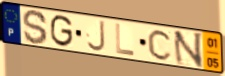C: (147, 28, 174, 62)
G: (49, 13, 74, 48)
J: (86, 20, 107, 54)
L: (114, 22, 136, 58)
N: (172, 30, 205, 69)
S: (21, 8, 49, 46)
